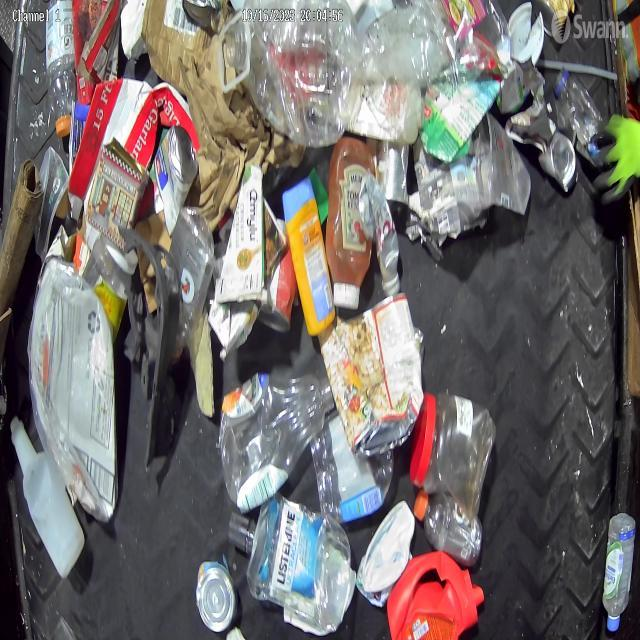can: (154, 124, 198, 239), (261, 216, 298, 334), (196, 558, 239, 634), (538, 130, 578, 193), (382, 140, 410, 212)
non_white_jug: (386, 549, 484, 640)
plastic_bottle: (228, 488, 352, 635), (218, 370, 334, 514), (414, 489, 484, 568), (554, 64, 608, 158), (602, 510, 637, 632), (46, 0, 76, 137)
